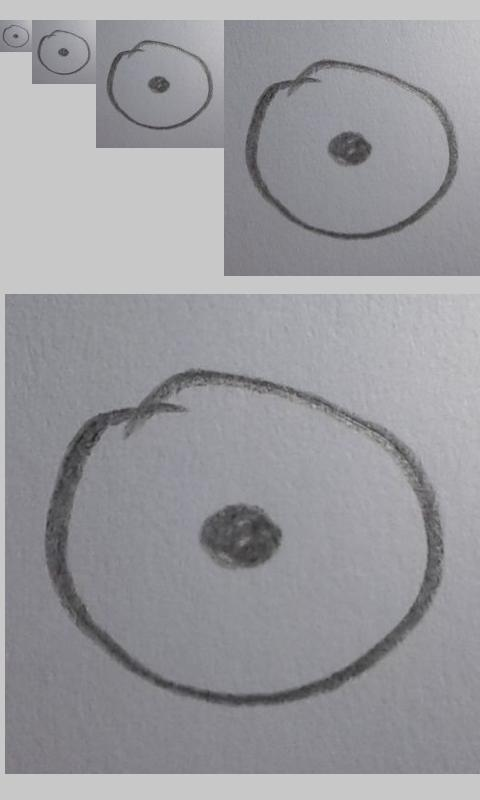radio_button: (46, 369, 447, 708), (244, 59, 459, 241), (106, 40, 214, 131), (37, 29, 91, 76), (2, 24, 30, 49)
